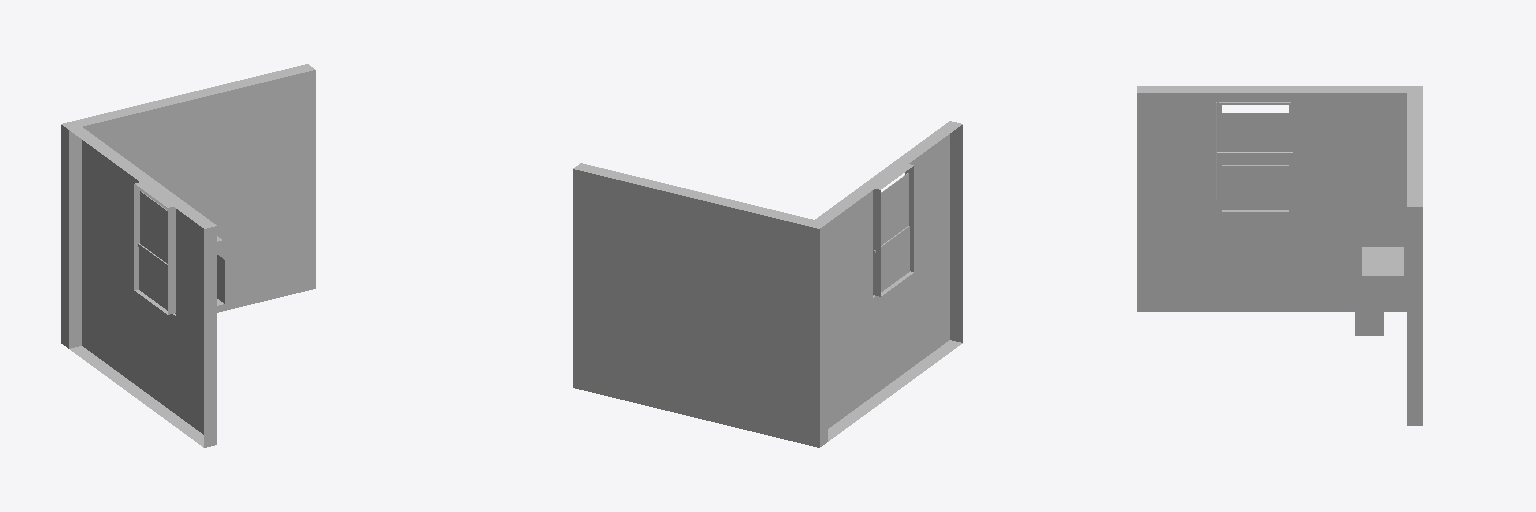
The model's file is Walls.obj.
The picture shows the model from 3 angles: view 1: azimuth 30°, elevation 25°; view 2: azimuth 150°, elevation 25°; view 3: azimuth 270°, elevation 25°; orthographic projection.
Parts seen in each view (by area): view 1: Walls_kitchen; view 2: Walls_kitchen; view 3: Walls_kitchen.
Part boxes in pixels (x1,y1,x2,y2): Walls_kitchen: (61,64,315,447); Walls_kitchen: (573,121,962,447); Walls_kitchen: (1137,86,1422,425).
Bounding box in the file's own units: 17.97 × 15.24 × 18.09.